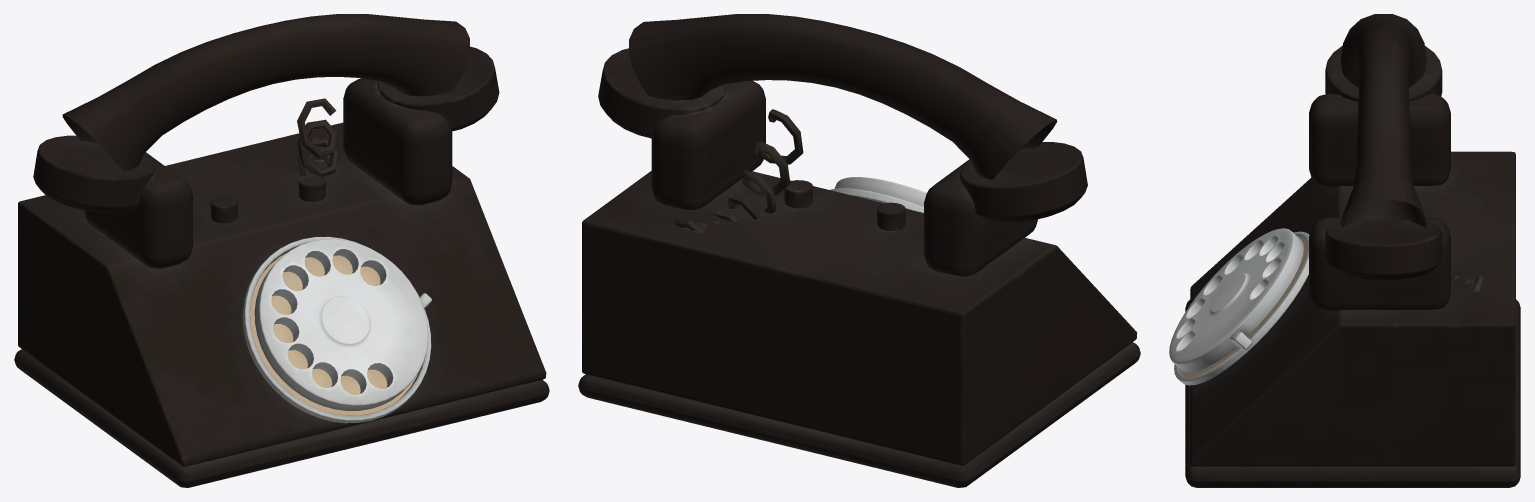
File: rotary-telephone.glb
The picture shows the model from 3 angles, left to right: view 1: azimuth 30°, elevation 25°; view 2: azimuth 150°, elevation 25°; view 3: azimuth 270°, elevation 25°; orthographic projection. The views are drawn at different scales.
Visible parts, largest first — view 1: base, handset, dial; view 2: base, handset, dial; view 3: base, handset, dial.
Boxes of the visible parts, x1,y1,x2,y2 form: base: [14, 78, 549, 487]; handset: [33, 14, 499, 212]; dial: [254, 239, 428, 410]; base: [578, 81, 1140, 487]; handset: [598, 14, 1087, 222]; dial: [834, 177, 926, 206]; base: [1174, 93, 1520, 487]; handset: [1325, 14, 1442, 281]; dial: [1169, 228, 1303, 372].
Size of the model in its own units: 0.2654 by 0.1951 by 0.1835.
1 material, 1 textured.
